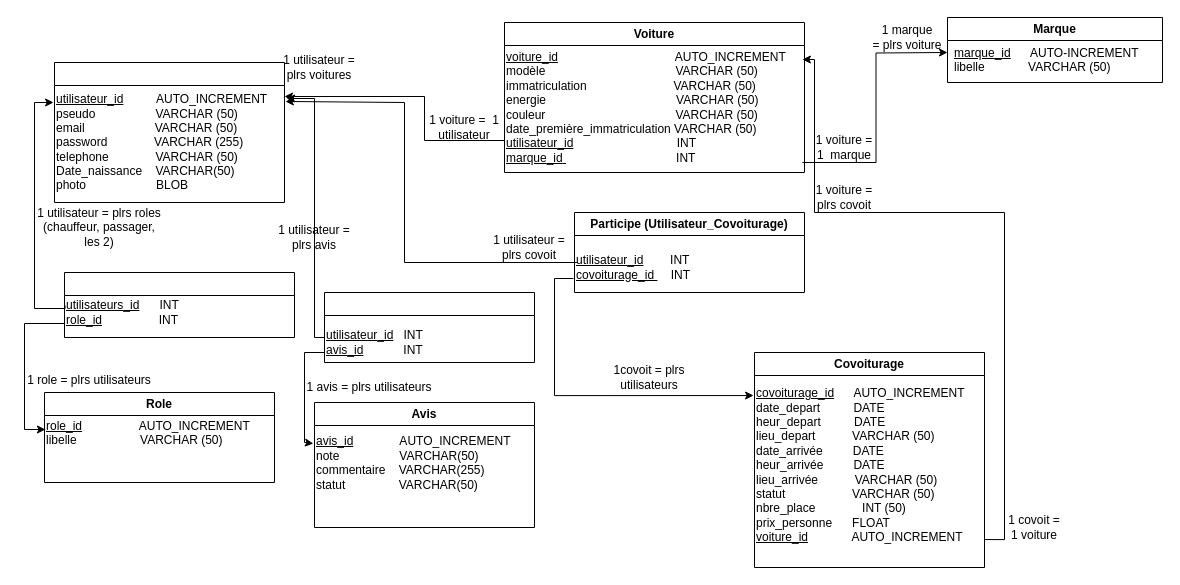
The diagram is 1180 pixels wide and 585 high, and some of its shapes have lost their labels. The box of each missing label's shape, as (x1, y1, x2, y2) in pixels:
Dépose ( Utilisateur_Avis): (324, 292, 534, 362)
Possède (Utilisateur_Role): (64, 272, 294, 338)
Utilisateurs: (54, 62, 284, 202)
